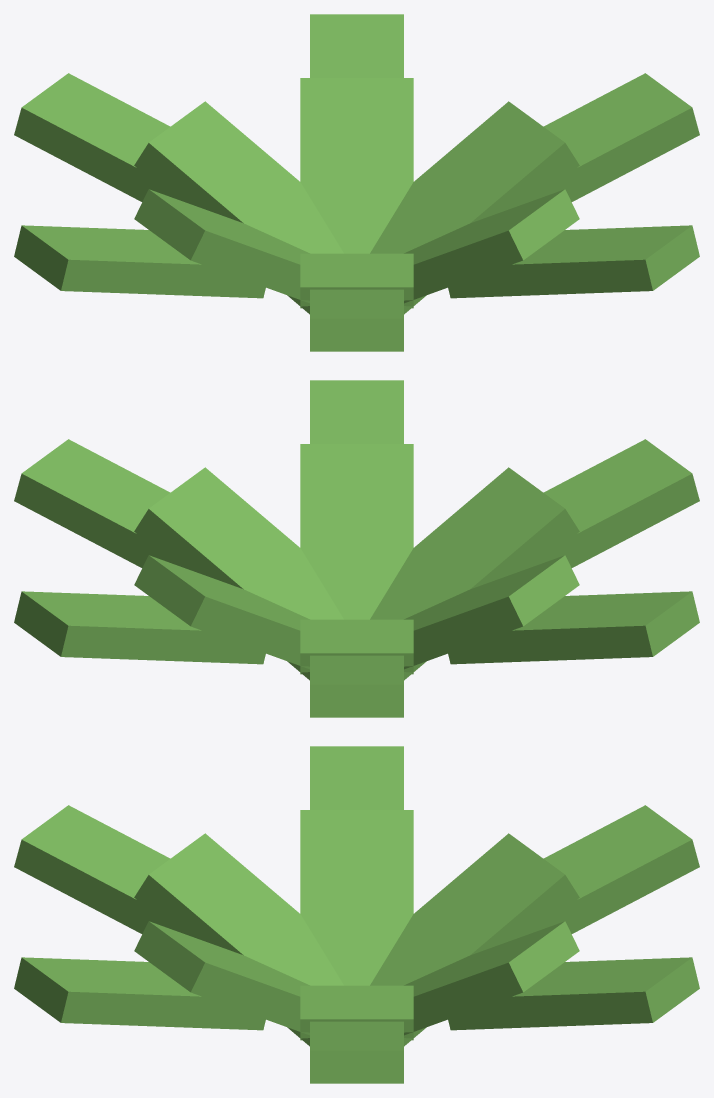
The model's file is SM_Plant_01_A.fbx.
3 views of the same model, one above another, from view 1: azimuth 30°, elevation 25°; view 2: azimuth 150°, elevation 25°; view 3: azimuth 270°, elevation 25° (orthographic).
Visible parts, largest first — view 1: pCube373; view 2: pCube373; view 3: pCube373.
Part boxes in pixels (bbox=[...]): pCube373: bbox=[14, 14, 699, 351]; pCube373: bbox=[14, 380, 699, 717]; pCube373: bbox=[14, 746, 699, 1083].
Size of the model in its own units: 71.43 by 14.53 by 66.4.
